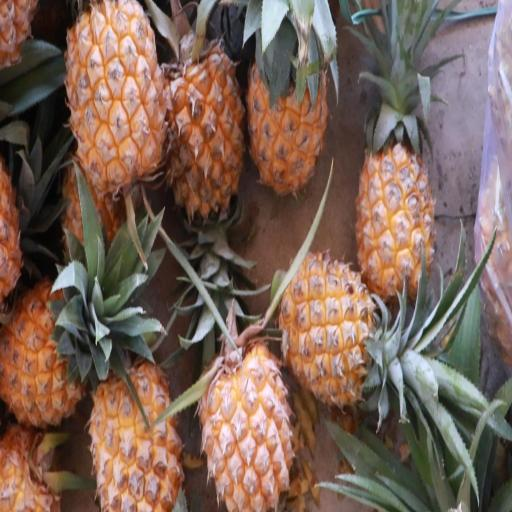Pineapple - v8 v1: (62, 5, 170, 207), (352, 68, 438, 310), (277, 248, 390, 413), (198, 333, 299, 512), (153, 30, 247, 221), (246, 0, 333, 203), (87, 352, 187, 512), (0, 271, 89, 440)
